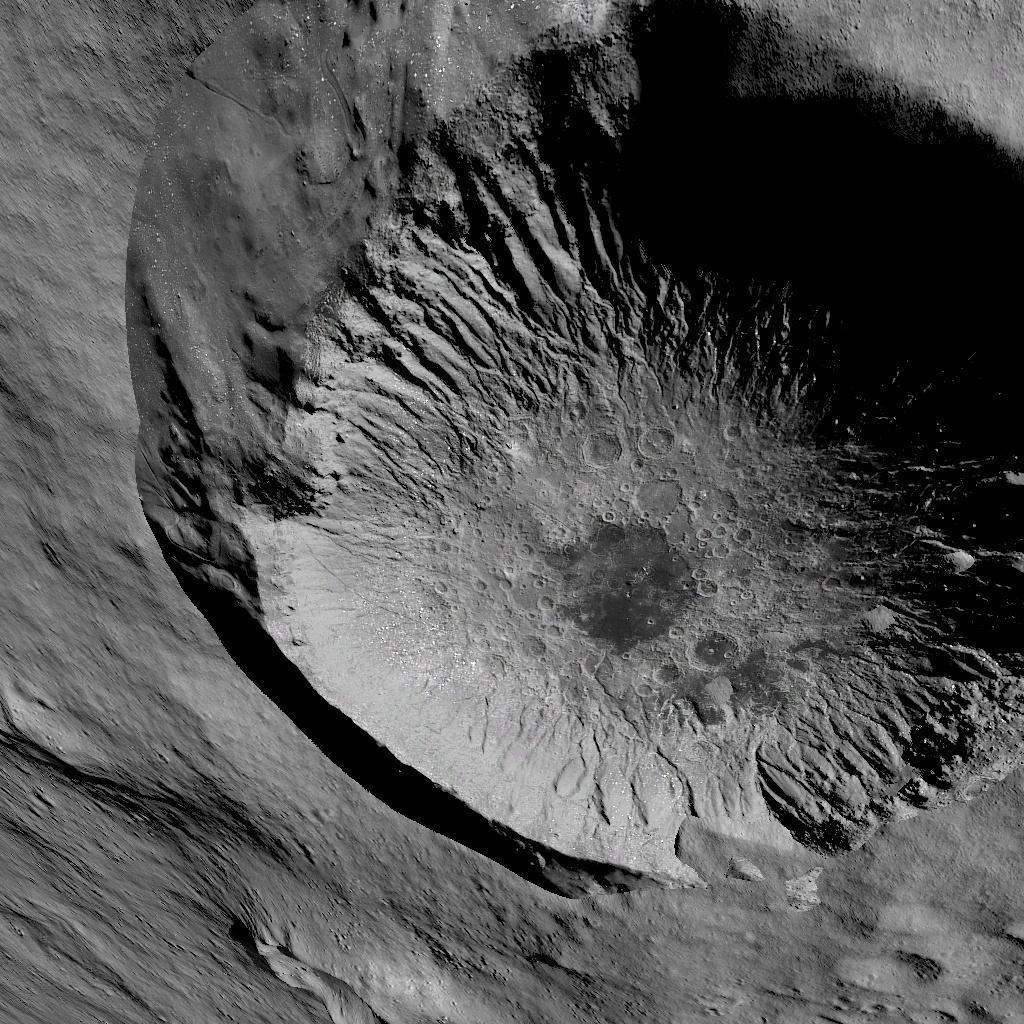Crater: (106, 0, 1024, 913)
